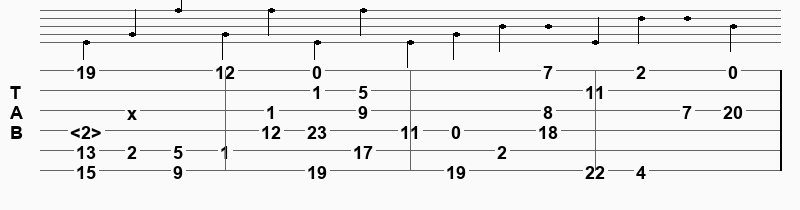0: (312, 62, 326, 79), (451, 122, 465, 139), (728, 62, 742, 79)
1: (220, 142, 234, 159), (266, 102, 280, 119), (312, 82, 326, 99)
11: (400, 122, 424, 139), (585, 82, 609, 99)
12: (215, 62, 239, 79), (261, 122, 285, 139)
13: (76, 142, 100, 159)
15: (76, 162, 100, 179)
17: (353, 142, 377, 159)
18: (538, 122, 562, 139)
19: (76, 62, 100, 79), (307, 162, 331, 179), (446, 162, 470, 179)
2: (127, 142, 141, 159), (497, 142, 511, 159), (636, 62, 650, 79)
20: (723, 102, 747, 119)
22: (585, 162, 609, 179)
23: (307, 122, 331, 139)
4: (636, 162, 650, 179)
5: (173, 142, 187, 159), (358, 82, 372, 99)
7: (543, 62, 557, 79), (682, 102, 696, 119)
8: (543, 102, 557, 119)
9: (173, 162, 187, 179), (358, 102, 372, 119)
harmonic: (70, 122, 106, 139)
x: (127, 103, 141, 117)
